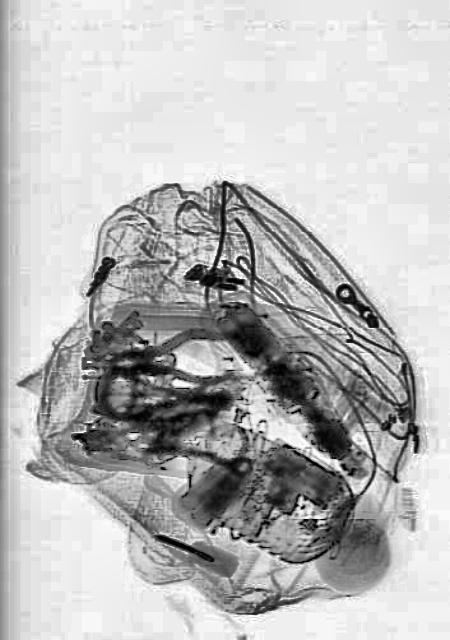Pliers: (111, 324, 235, 388)
Wrench: (131, 432, 249, 478)
